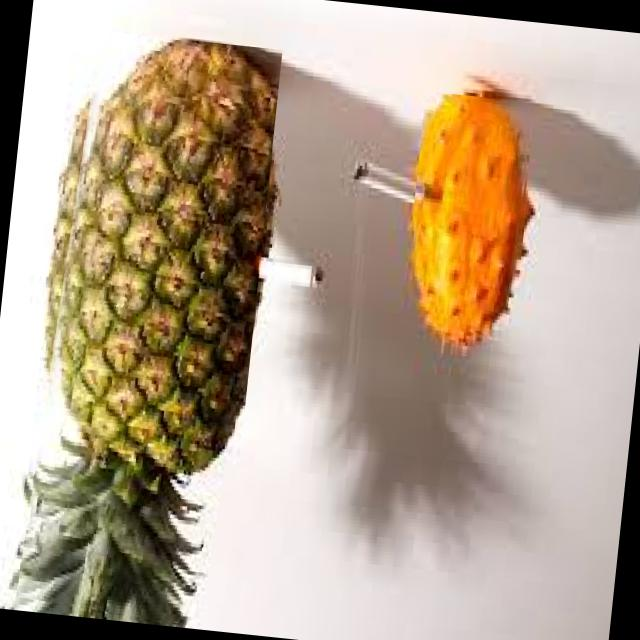Organic: (12, 26, 280, 630), (398, 90, 536, 360)
